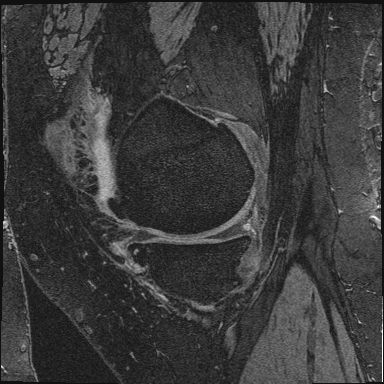effusion: (96, 145, 116, 205)
